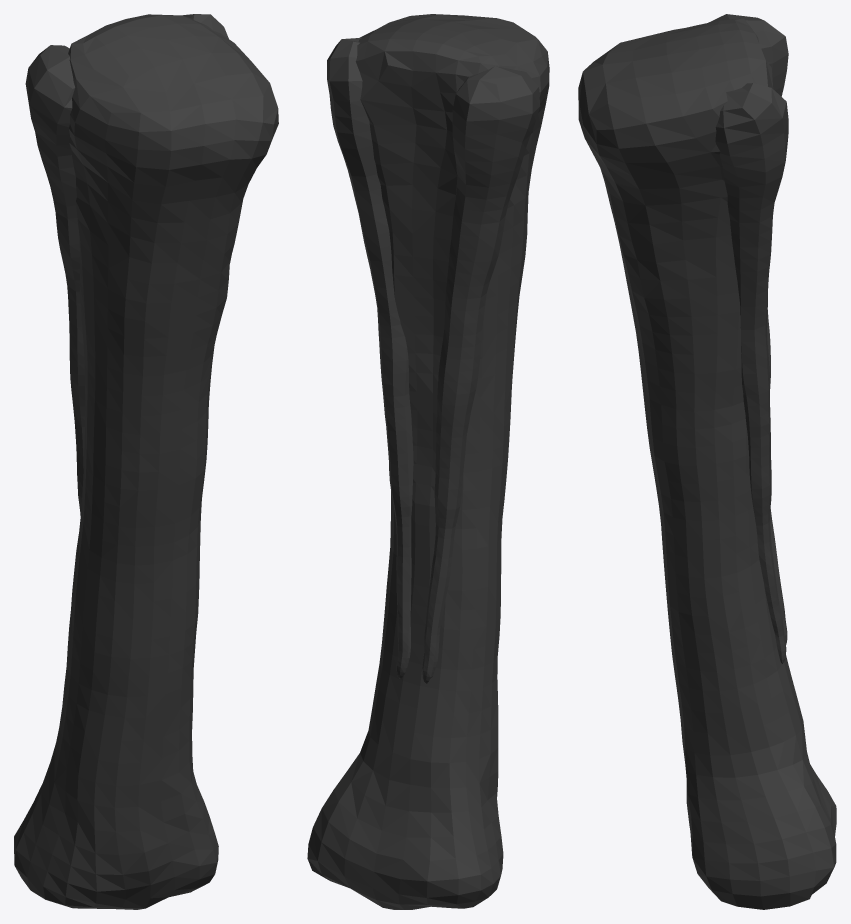
The model's file is Metatarsal_R.glb.
3 renders of one model, left to right at view 1: azimuth 30°, elevation 25°; view 2: azimuth 150°, elevation 25°; view 3: azimuth 270°, elevation 25°, orthographic. The views are drawn at different scales.
Visible parts, largest first — view 1: Metatarsal_R; view 2: Metatarsal_R; view 3: Metatarsal_R.
Boxes of the visible parts, left/top/right/bottom form: Metatarsal_R: left=14, top=14, right=278, bottom=909; Metatarsal_R: left=307, top=14, right=549, bottom=909; Metatarsal_R: left=578, top=14, right=836, bottom=909.
Size of the model in its own units: 0.0947 by 0.3967 by 0.1087.
Materials: 1 (1 with a texture image).
